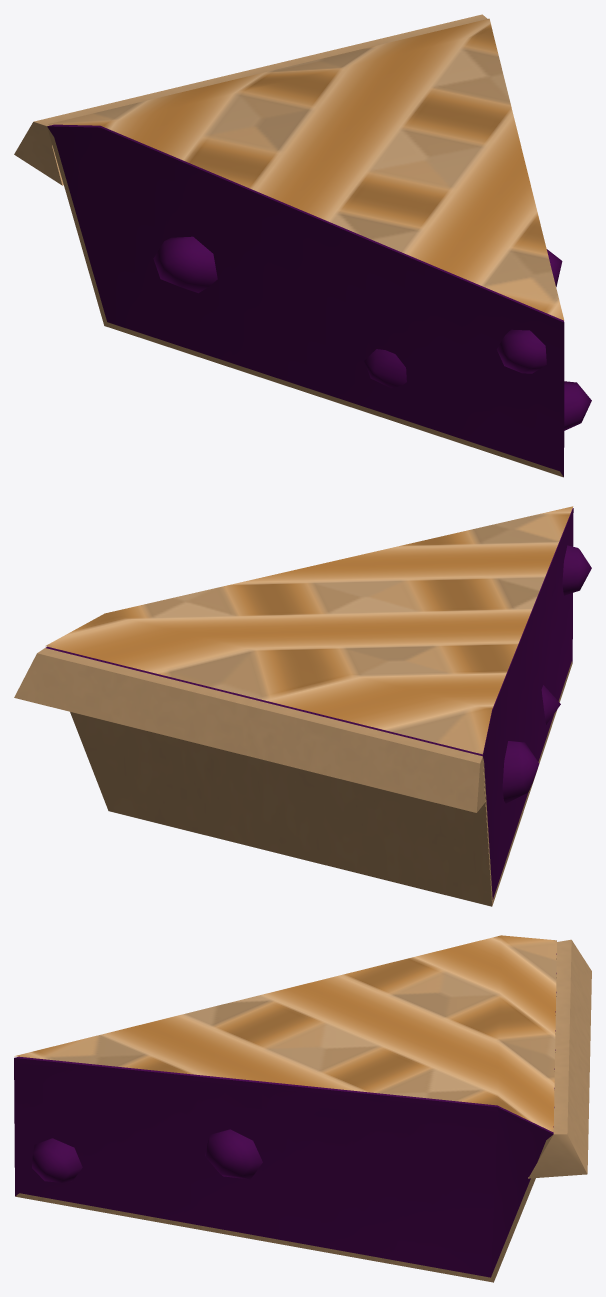
Rendered from Slice_Of_Pie_B_2.FBX.
3 renders of one model, top to bottom at view 1: azimuth 30°, elevation 25°; view 2: azimuth 150°, elevation 25°; view 3: azimuth 270°, elevation 25°, orthographic. The views are drawn at different scales.
Visible parts, largest first — view 1: Slice_Of_PieB; view 2: Slice_Of_PieB; view 3: Slice_Of_PieB.
Part boxes in pixels (x1,y1,x2,y2): Slice_Of_PieB: [14, 14, 591, 477]; Slice_Of_PieB: [14, 506, 591, 906]; Slice_Of_PieB: [14, 935, 591, 1282].
Size of the model in its own units: 44.51 by 18.17 by 53.51.
